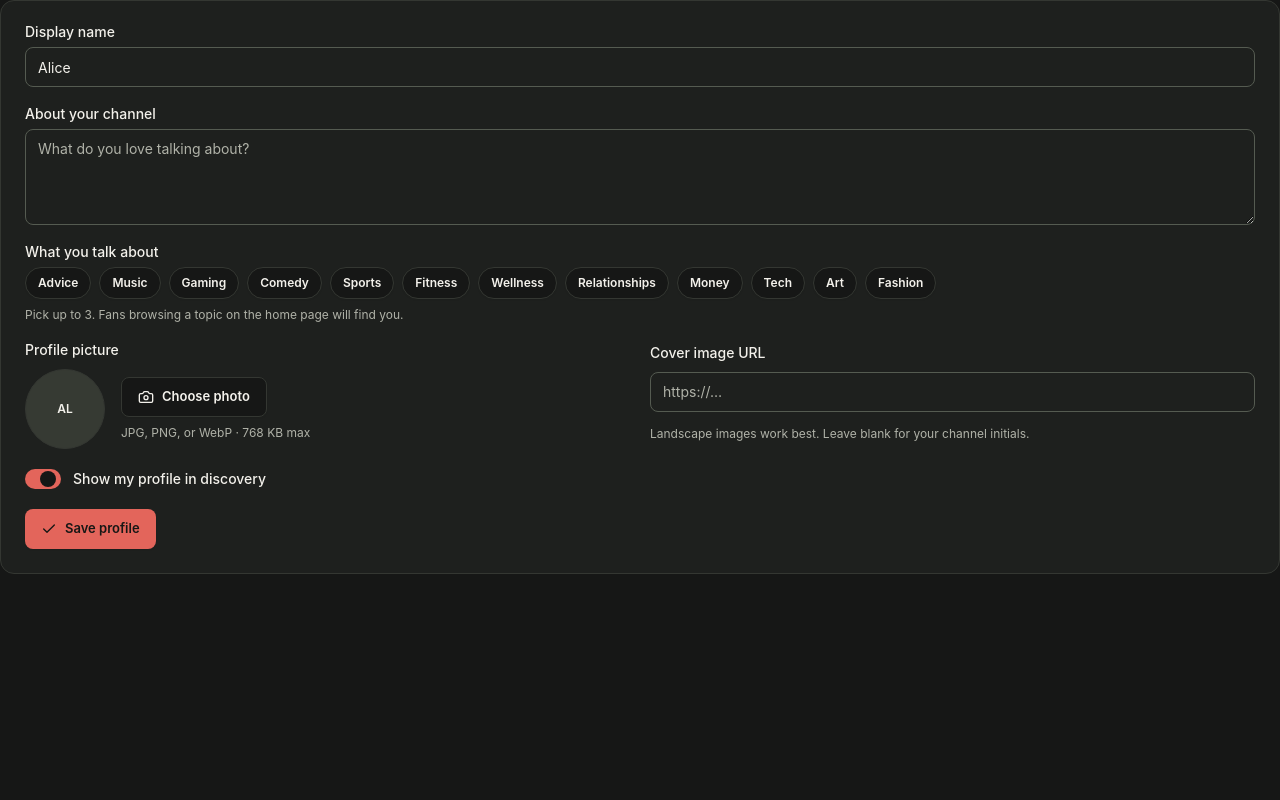
it: preserves the draft when saving fails
The width and height of the screenshot is (1280, 800).
Replace the text in the field labelled "Display name" with "Unsaved name" at point(640, 67), box [25, 47, 1255, 87]
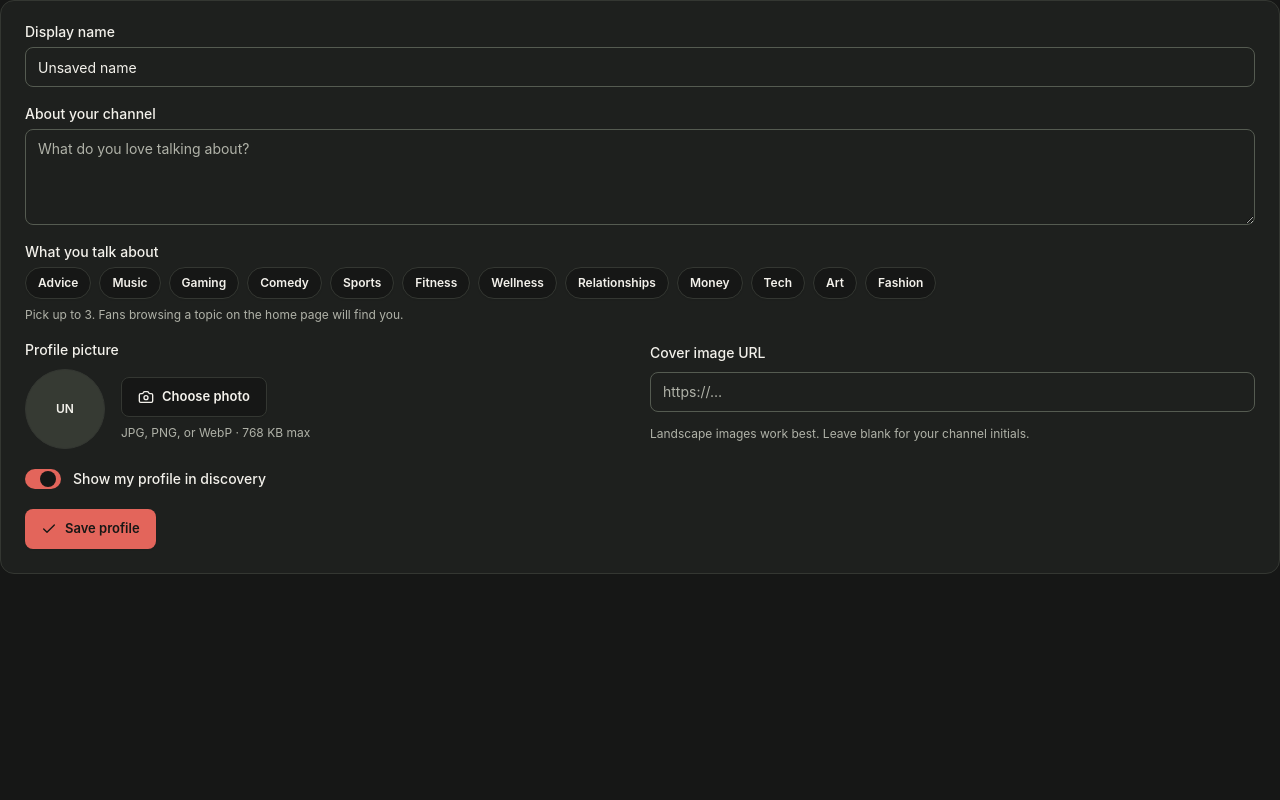
Click the button "Save profile".
click(90, 529)  # box [25, 509, 156, 549]
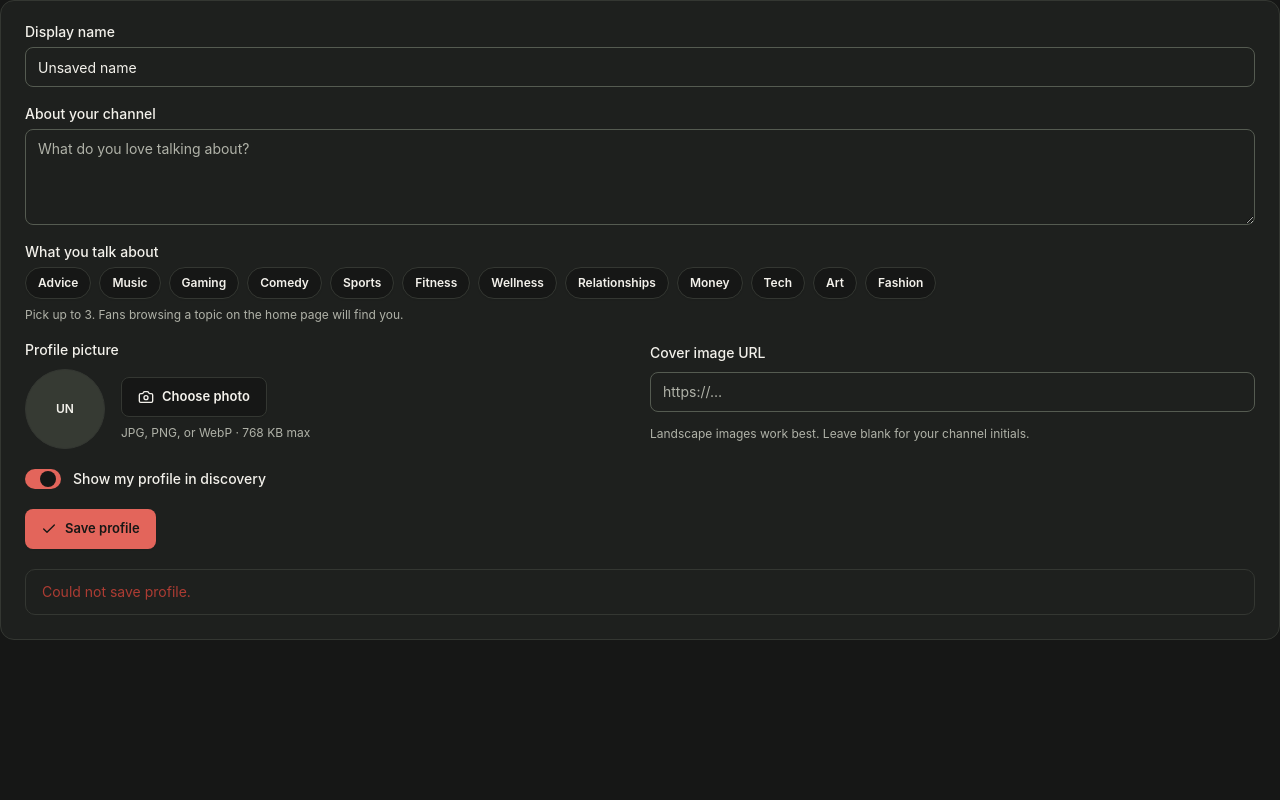
Now the message reads "Could not save profile.", box [42, 583, 191, 600]
